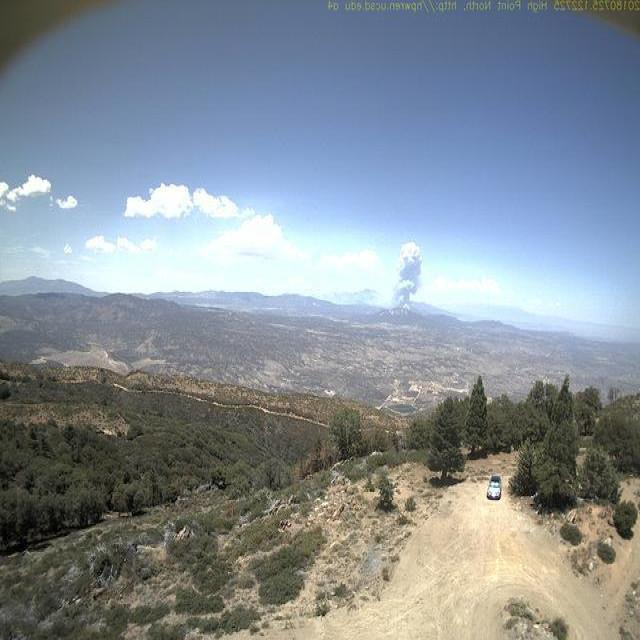smoke: (391, 237, 424, 312)
